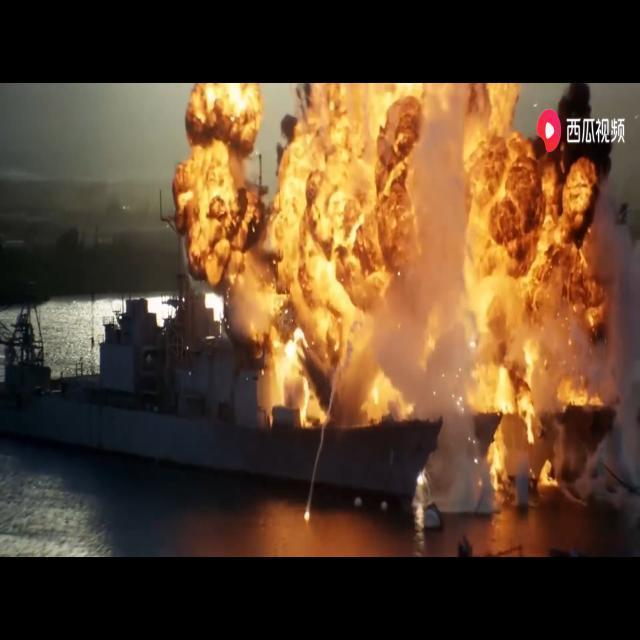fire: (175, 85, 616, 505)
